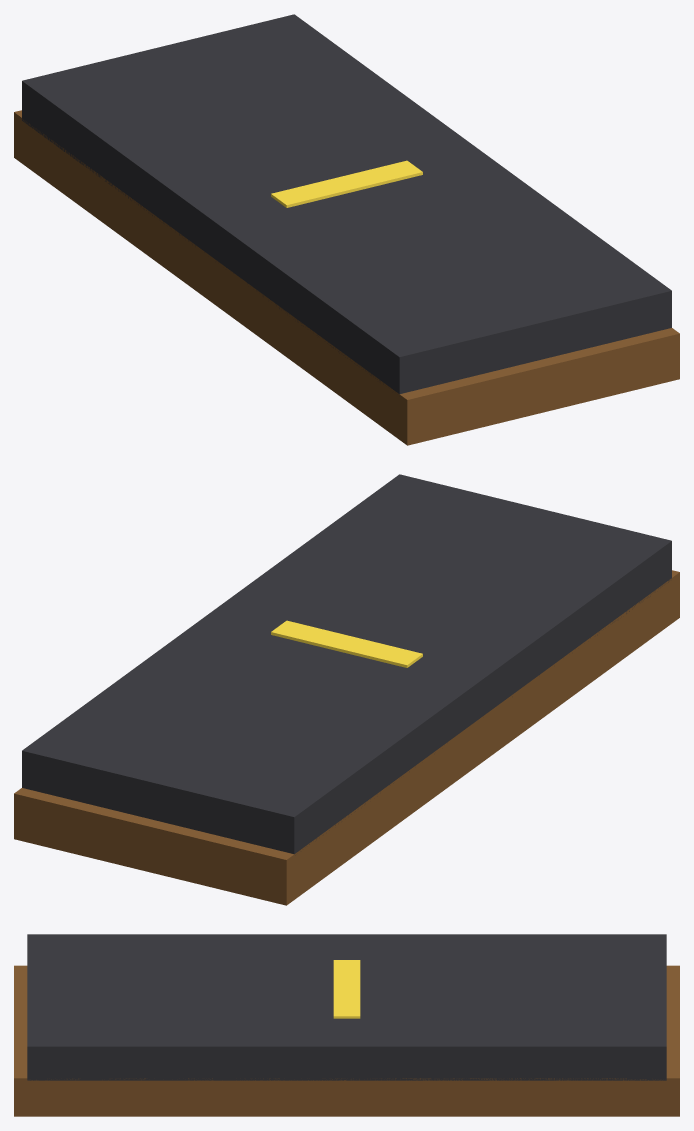
File: road.glb
3 views of the same model, one above another, from view 1: azimuth 30°, elevation 25°; view 2: azimuth 150°, elevation 25°; view 3: azimuth 270°, elevation 25° (orthographic). The views are drawn at different scales.
Visible parts, largest first — view 1: road; view 2: road; view 3: road.
Boxes of the visible parts, bbox=[...] form: road: bbox=[14, 14, 679, 445]; road: bbox=[14, 474, 679, 905]; road: bbox=[14, 934, 679, 1116].
Bounding box in the file's own units: 1 × 0.3 × 2.5.
